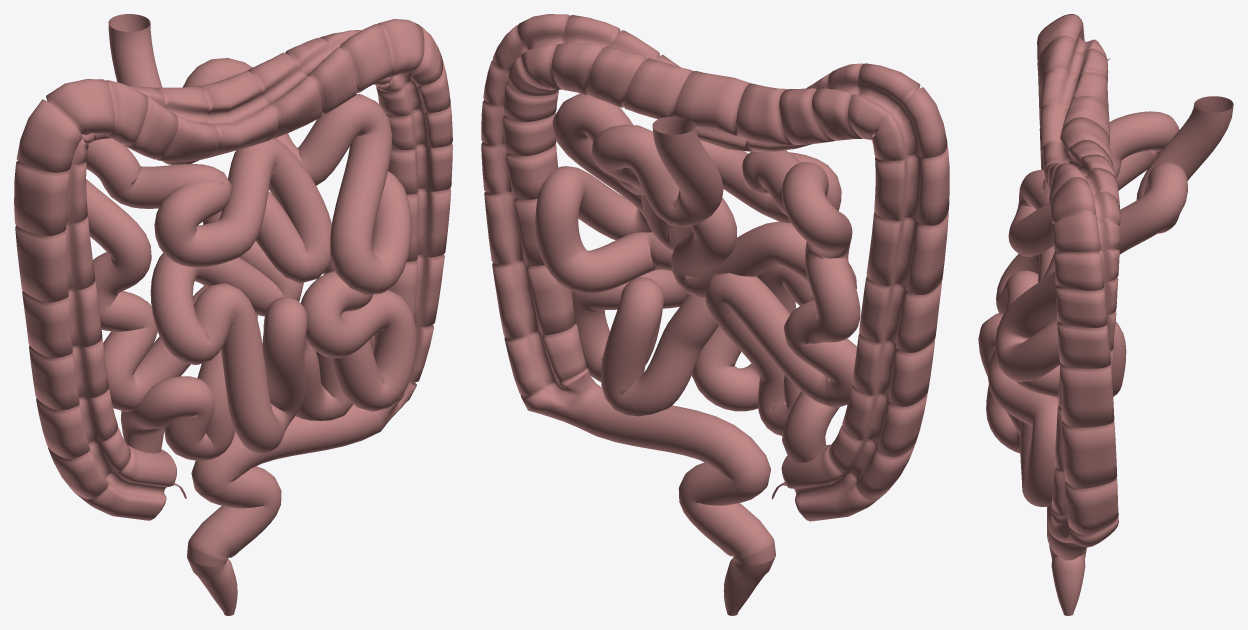
The model's file is small-intestine-and-large-intestine.fbx.
3 views of the same model, side by side, from view 1: azimuth 30°, elevation 25°; view 2: azimuth 150°, elevation 25°; view 3: azimuth 270°, elevation 25° (orthographic). The views are drawn at different scales.
Visible parts, largest first — view 1: ANATOMY___HUMAN_INTESTINE; view 2: ANATOMY___HUMAN_INTESTINE; view 3: ANATOMY___HUMAN_INTESTINE.
Part boxes in pixels (x1=…): ANATOMY___HUMAN_INTESTINE: x1=14, y1=14, x2=452, y2=615; ANATOMY___HUMAN_INTESTINE: x1=481, y1=14, x2=949, y2=615; ANATOMY___HUMAN_INTESTINE: x1=978, y1=14, x2=1233, y2=615.
Bounding box in the file's own units: 0.8268 × 1.02 × 0.4488.
1 material, 1 textured.
